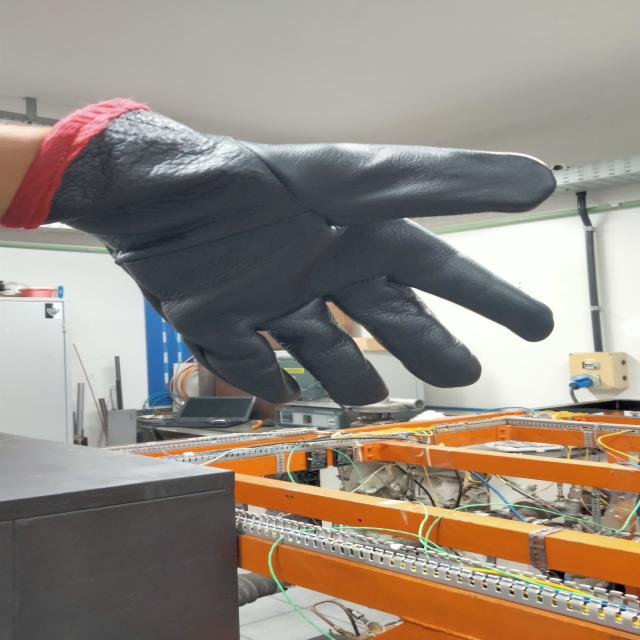Gloves: (19, 97, 570, 403)
